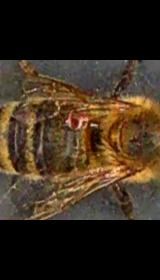varroa_mite: (62, 104, 90, 134)
